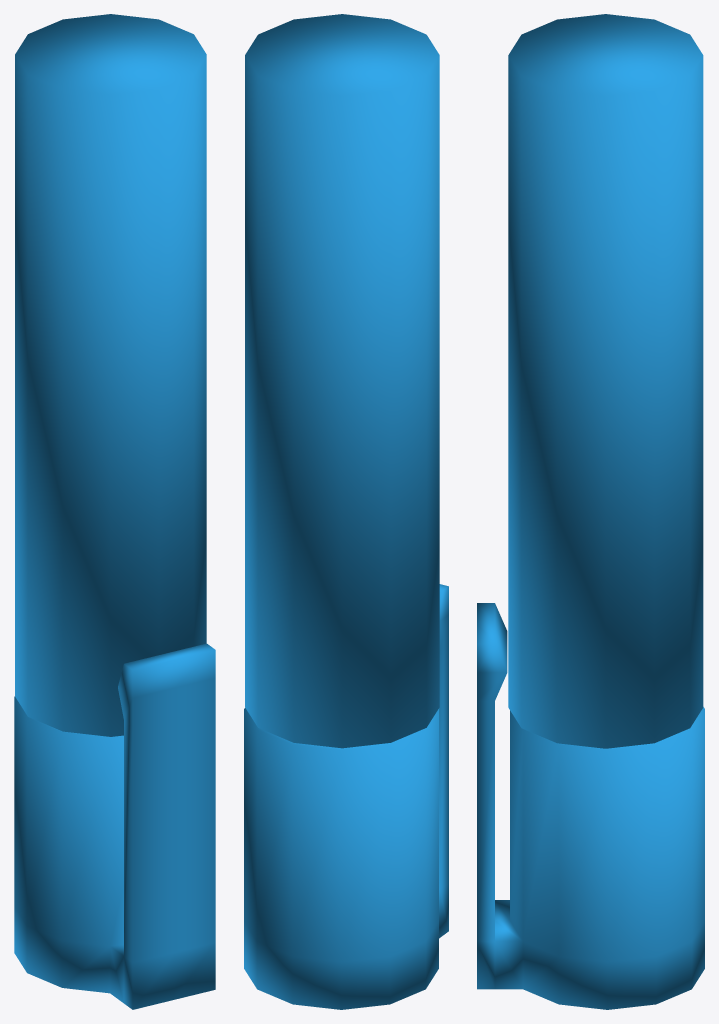
File: Pisak_z_nakredka.fbx
3 renders of one model, left to right at view 1: azimuth 30°, elevation 25°; view 2: azimuth 150°, elevation 25°; view 3: azimuth 270°, elevation 25°, orthographic.
Visible parts, largest first — view 1: pisak_z_nakrędką; view 2: pisak_z_nakrędką; view 3: pisak_z_nakrędką.
Part boxes in pixels (box(x1,y1,x2,y2)): pisak_z_nakrędką: box(14, 14, 215, 1009); pisak_z_nakrędką: box(244, 14, 448, 1009); pisak_z_nakrędką: box(477, 14, 704, 1009).
Size of the model in its own units: 200 by 1035 by 234.
